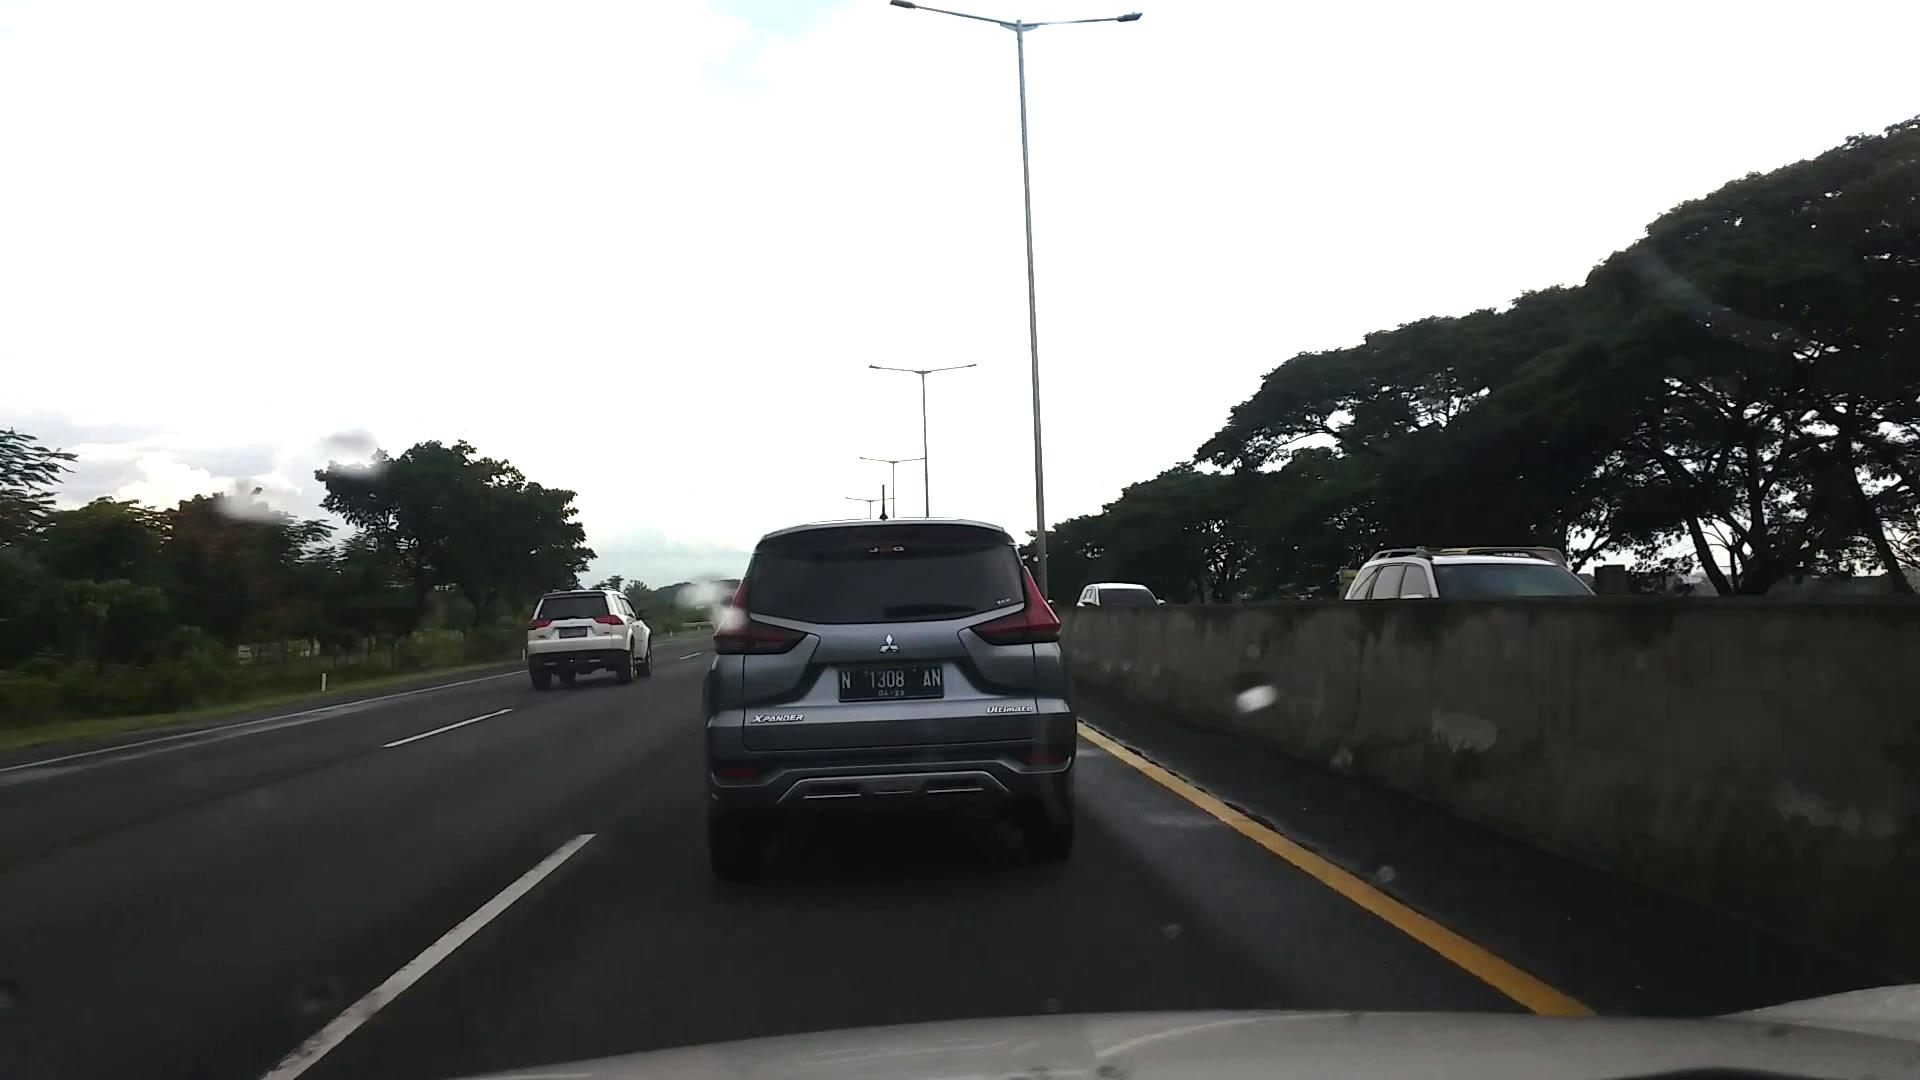plate_positive: (839, 666, 943, 702)
